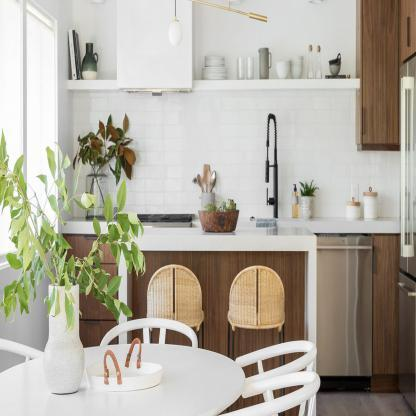chair: (224, 260, 292, 341), (142, 262, 208, 340), (236, 340, 319, 401), (234, 370, 321, 416), (100, 318, 199, 347)
table: (1, 342, 237, 416), (109, 238, 314, 323)
